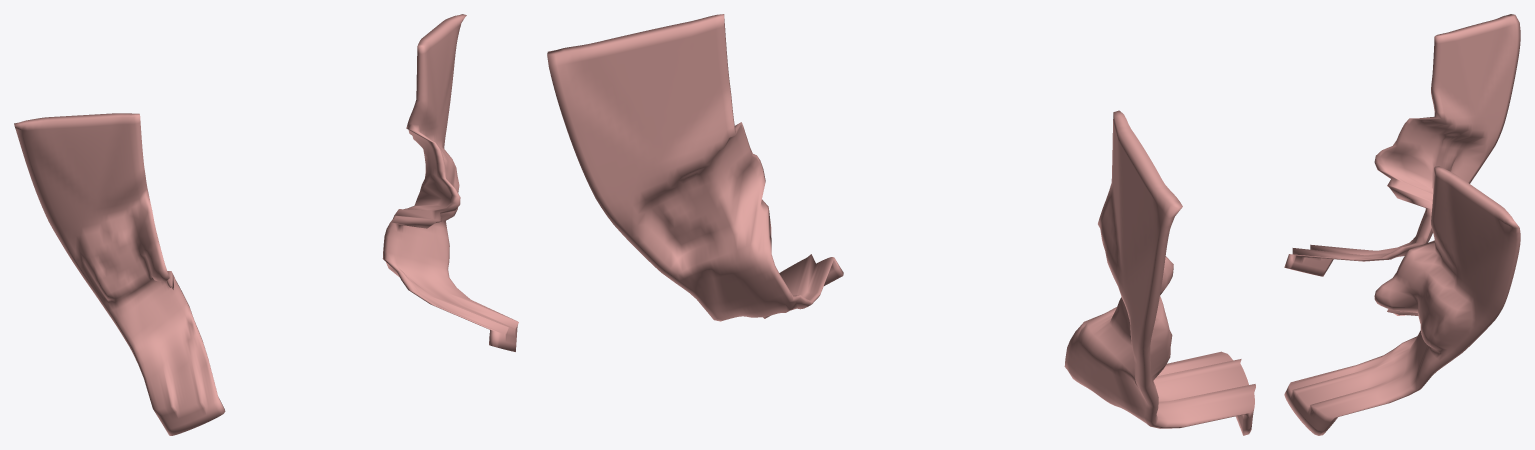
File: levator_labii_superioris_lod1.glb
The picture shows the model from 3 angles, left to right: view 1: azimuth 30°, elevation 25°; view 2: azimuth 150°, elevation 25°; view 3: azimuth 270°, elevation 25°; orthographic projection. The views are drawn at different scales.
Visible parts, largest first — view 1: levator_labii_superioris_R_lod1, levator_labii_superioris_L_lod1; view 2: levator_labii_superioris_L_lod1, levator_labii_superioris_R_lod1; view 3: levator_labii_superioris_L_lod1, levator_labii_superioris_R_lod1.
Part boxes in pixels (<box>): levator_labii_superioris_R_lod1: <box>14,113,225,435</box>; levator_labii_superioris_L_lod1: <box>382,14,518,351</box>; levator_labii_superioris_L_lod1: <box>547,14,843,321</box>; levator_labii_superioris_R_lod1: <box>1064,110,1255,435</box>; levator_labii_superioris_L_lod1: <box>1284,166,1520,435</box>; levator_labii_superioris_R_lod1: <box>1284,14,1520,276</box>.
Size of the model in its own units: 0.0499 by 0.0282 by 0.0237.
